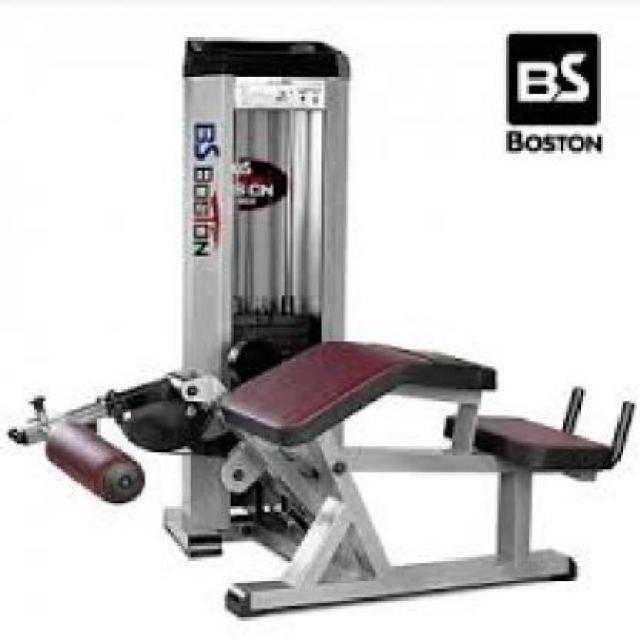reg curl machine: (9, 25, 638, 620)
